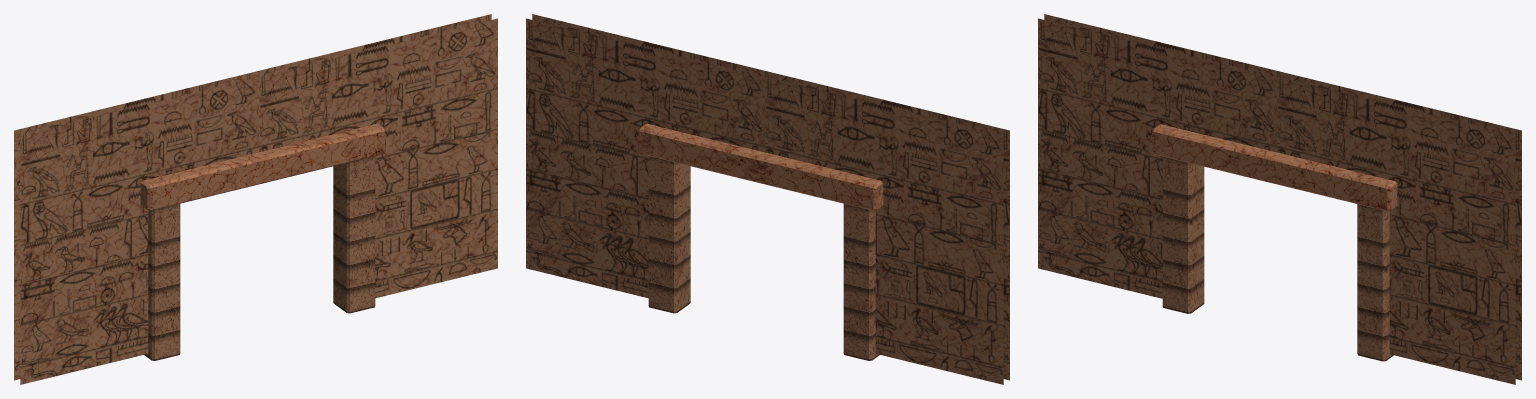
The model's file is Wall_Dorr.fbx.
3 renders of one model, left to right at view 1: azimuth 30°, elevation 25°; view 2: azimuth 150°, elevation 25°; view 3: azimuth 330°, elevation 25°, orthographic.
Visible parts, largest first — view 1: WallDoor; view 2: WallDoor; view 3: WallDoor.
Part boxes in pixels (x1,y1,x2,y2): WallDoor: (14, 14, 497, 384); WallDoor: (526, 14, 1009, 384); WallDoor: (1038, 14, 1521, 384).
Size of the model in its own units: 1225 by 623 by 95.17.
3 materials, 3 textured.
